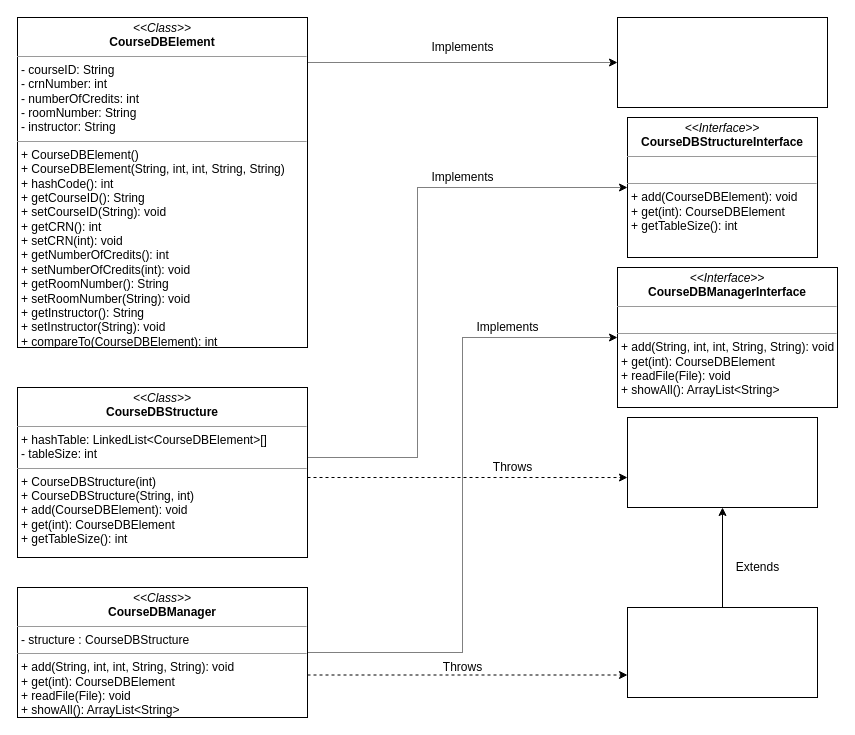
The diagram is 855 pixels wide and 735 high, and some of its shapes have lost their labels. Here are the shapes that lost their labels. From the top down, the centre of each, then its label:
the point at 722,62: <<Interface>> Comparable + compareTo(CourseDBElement): int
the point at 722,462: <<Class>> java.io.IOException
the point at 722,652: <<Class>> java.io.FileNoFoundException
